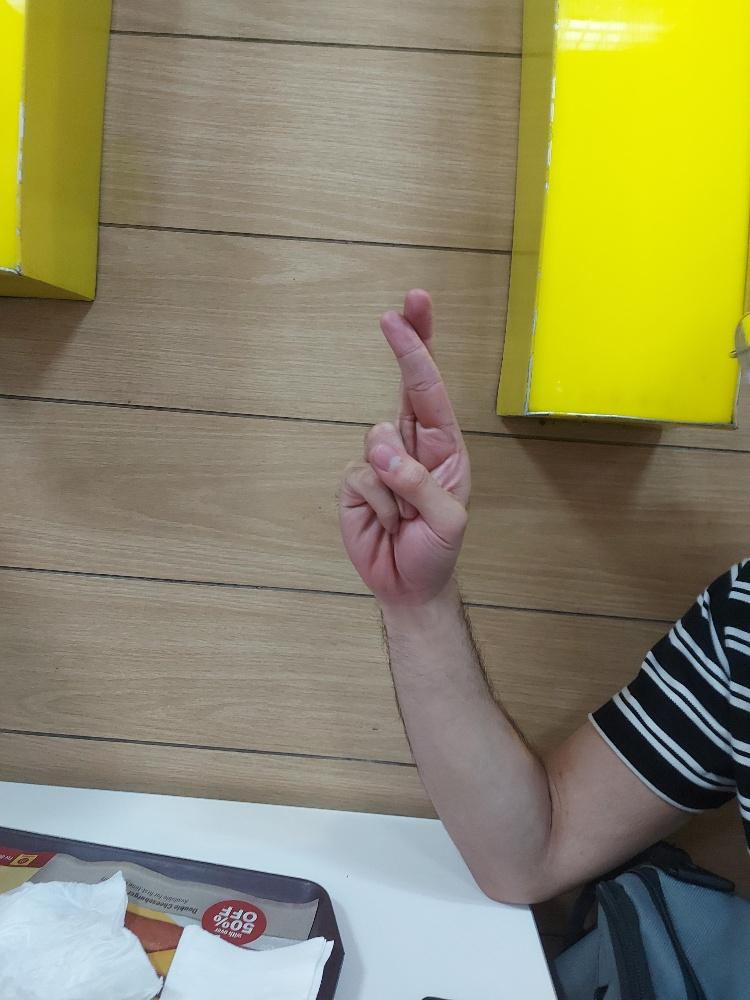r: (336, 282, 477, 613)
